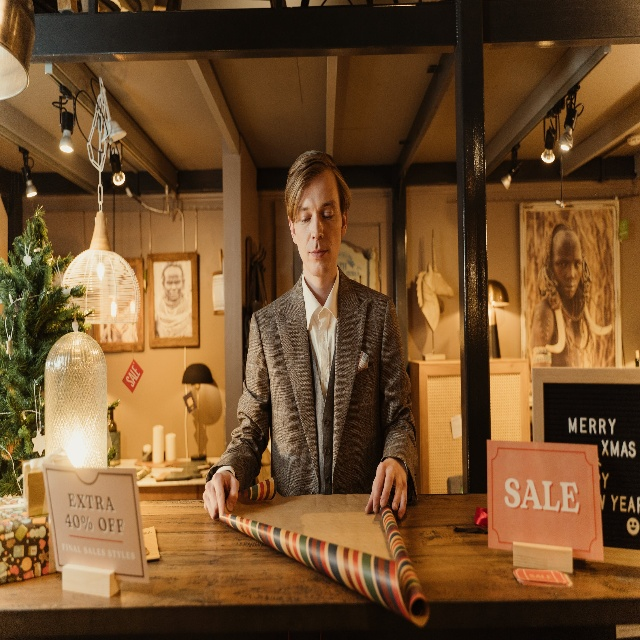Sin_guantes: (366, 462, 409, 521), (204, 473, 240, 521)
